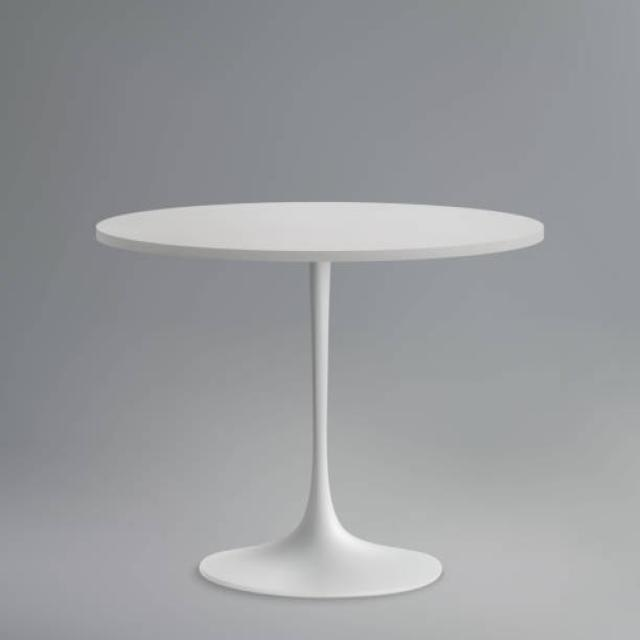table: (94, 198, 544, 600)
